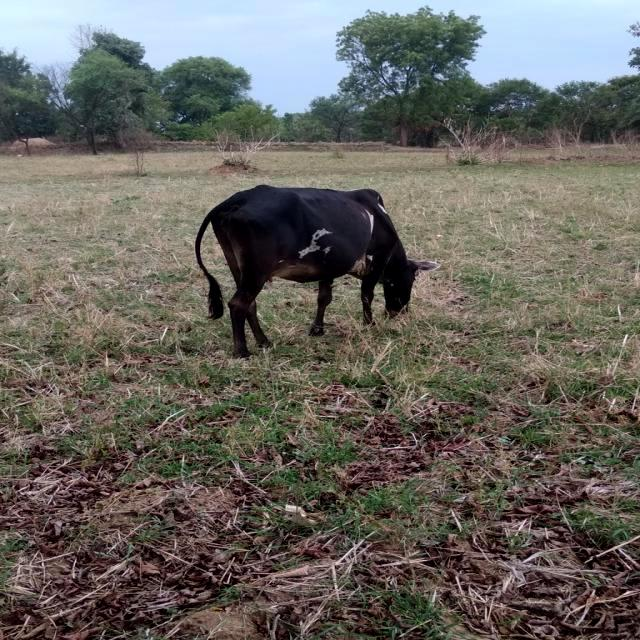COW: (195, 185, 435, 358)
